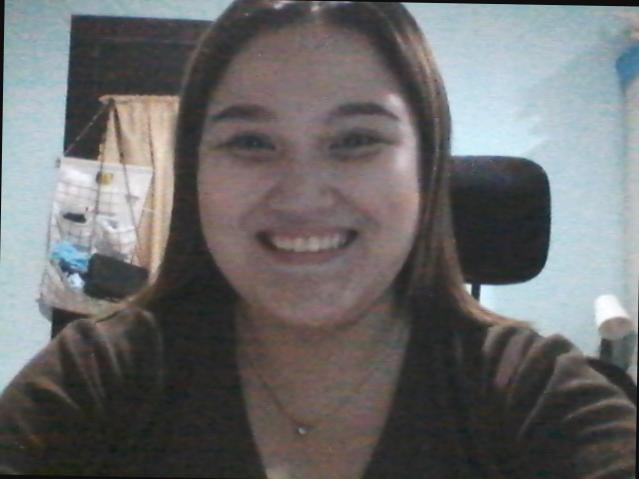senang: (185, 24, 435, 329)
